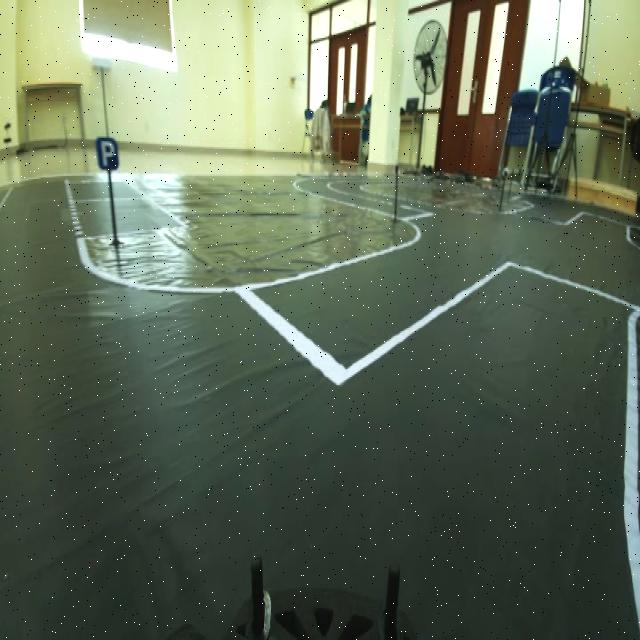parking: (90, 124, 127, 178)
